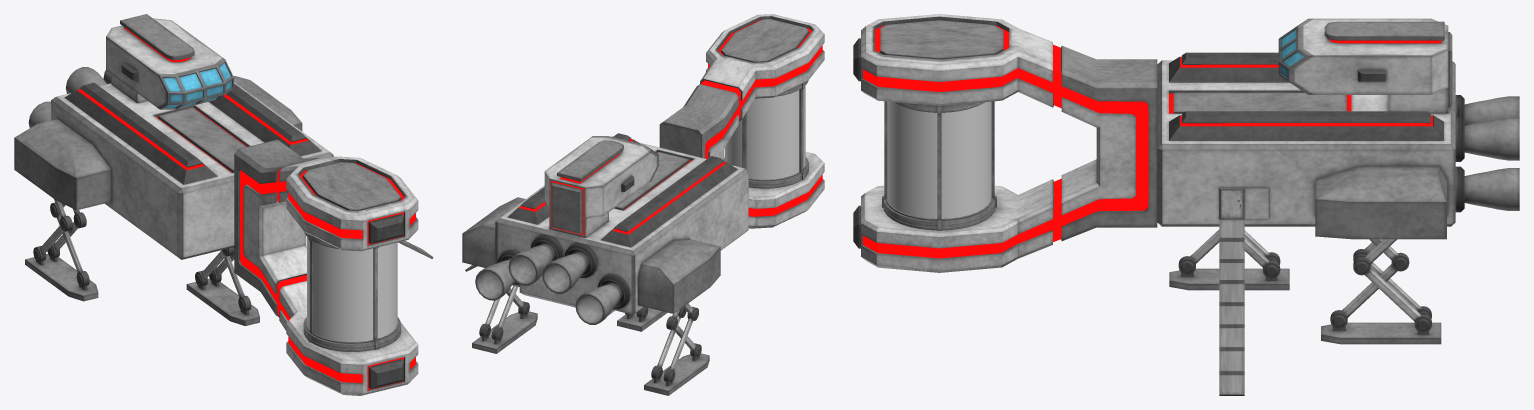
File: SpaceShip1.fbx
The picture shows the model from 3 angles, left to right: view 1: azimuth 30°, elevation 25°; view 2: azimuth 150°, elevation 25°; view 3: azimuth 270°, elevation 25°; orthographic projection. The views are drawn at different scales.
Visible parts, largest first — view 1: ShipBodyBake, ShipArmBake, GlassBake, ShipHeadBake, TankBake; view 2: ShipBodyBake, ShipArmBake, GlassBake, TankBake, ShipHeadBake; view 3: ShipBodyBake, ShipArmBake, GlassBake, RampBake, TankBake, ShipHeadBake, ShipDoorBake.
Boxes of the visible parts, x1,y1,x2,y2 form: ShipBodyBake: [14, 14, 333, 325]; ShipArmBake: [234, 139, 418, 395]; GlassBake: [307, 237, 397, 341]; ShipHeadBake: [154, 55, 233, 109]; TankBake: [303, 231, 400, 351]; ShipBodyBake: [462, 133, 748, 395]; ShipArmBake: [659, 14, 824, 228]; GlassBake: [724, 85, 805, 179]; TankBake: [724, 80, 808, 188]; ShipHeadBake: [588, 136, 658, 183]; ShipBodyBake: [1157, 18, 1519, 344]; ShipArmBake: [853, 14, 1157, 272]; GlassBake: [887, 101, 991, 218]; RampBake: [1219, 219, 1244, 395]; TankBake: [882, 101, 996, 230]; ShipHeadBake: [1278, 18, 1320, 94]; ShipDoorBake: [1221, 190, 1242, 217].
Size of the model in its own units: 3573 by 2342 by 5579.
Materials: 28 (24 with a texture image).
